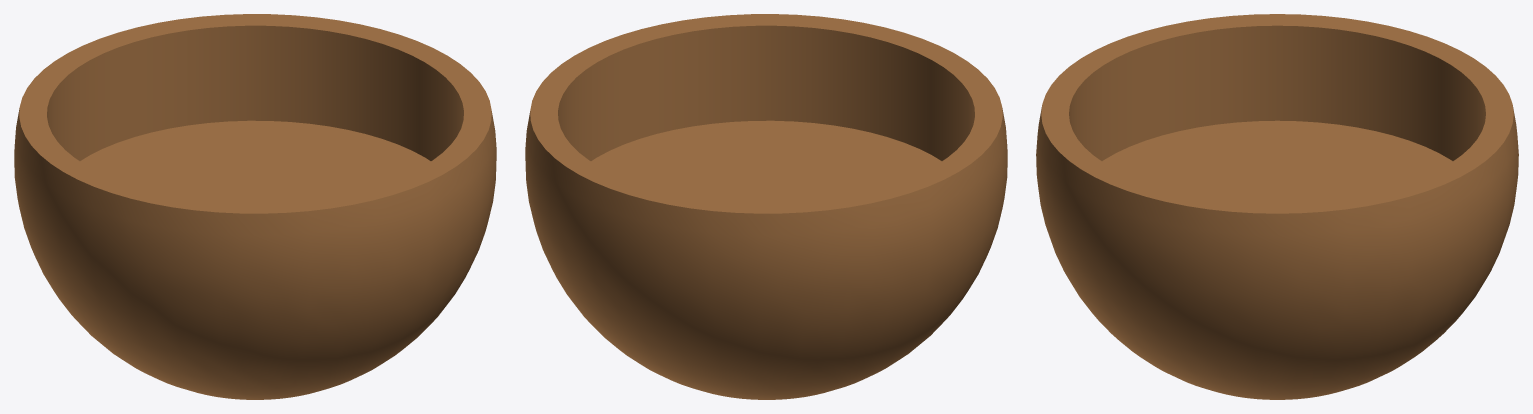
3 views of the same model, side by side, from view 1: azimuth 30°, elevation 25°; view 2: azimuth 150°, elevation 25°; view 3: azimuth 270°, elevation 25° (orthographic).
Visible parts, largest first — view 1: bowl_body; view 2: bowl_body; view 3: bowl_body.
Boxes of the visible parts, left/top/right/bottom form: bowl_body: left=14, top=14, right=496, bottom=399; bowl_body: left=525, top=14, right=1007, bottom=399; bowl_body: left=1036, top=14, right=1518, bottom=399.
Bounding box in the file's own units: 0.25 × 0.1506 × 0.25.
